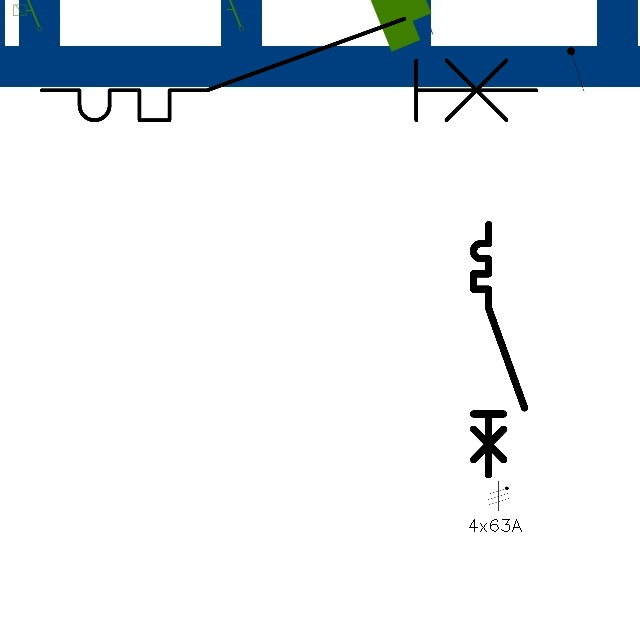interruptor_termomagnetico: (29, 6, 549, 133), (467, 218, 531, 481)
